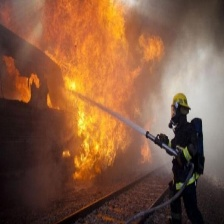fire: (37, 3, 145, 181)
smoke: (158, 1, 224, 132)
